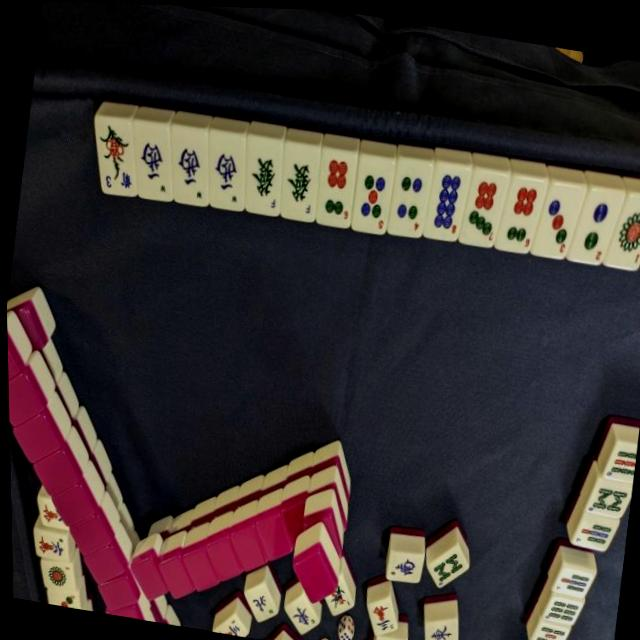bf3: (90, 121, 139, 194)
hdg: (242, 144, 284, 212), (278, 149, 319, 216)
hww: (168, 139, 209, 203), (205, 142, 245, 206), (133, 135, 173, 196)
sd1: (611, 200, 640, 266)
sd2: (576, 192, 613, 262)
sd3: (538, 190, 573, 256)
sd4: (387, 163, 429, 232)
sd5: (353, 164, 391, 229)
sd6: (314, 152, 357, 222), (501, 175, 539, 248)
sd7: (463, 171, 503, 244)
sd8: (427, 167, 466, 237)
